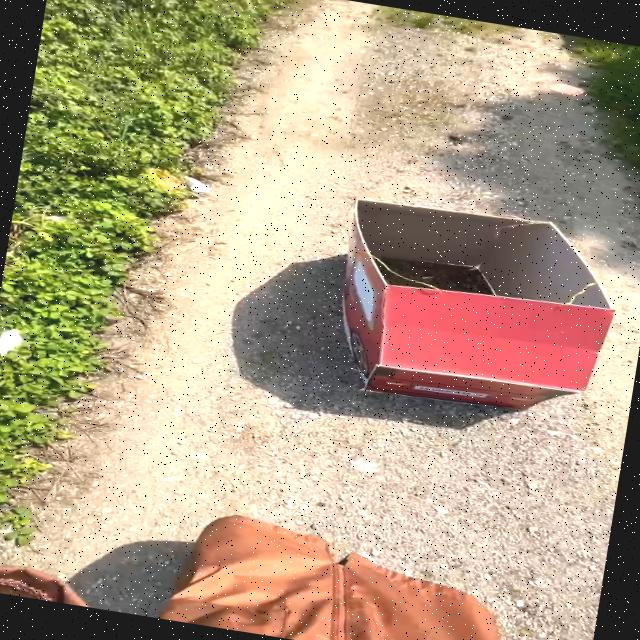red_car: (270, 175, 640, 440)
